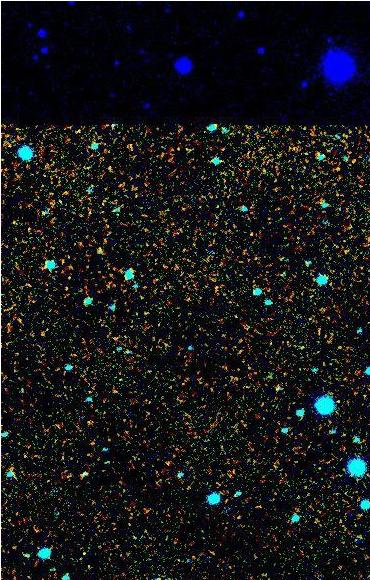star: (325, 382, 355, 412)
